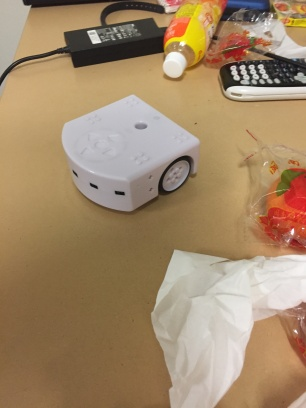thymio: (52, 92, 208, 217)
